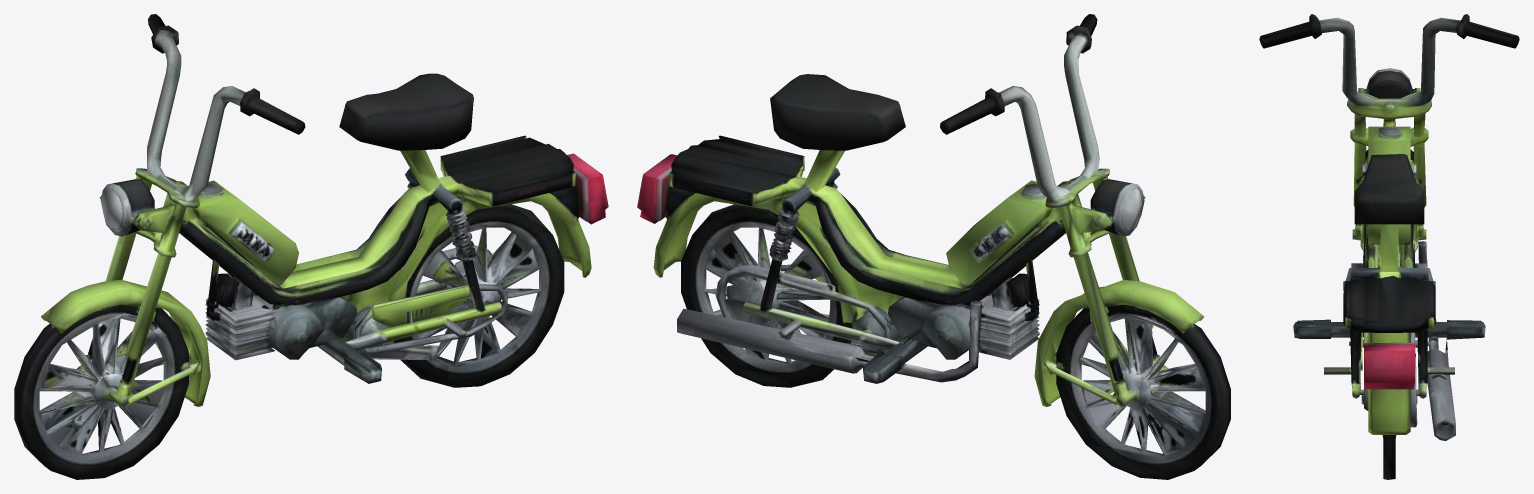
The model's file is moped.glb.
3 renders of one model, left to right at view 1: azimuth 30°, elevation 25°; view 2: azimuth 150°, elevation 25°; view 3: azimuth 270°, elevation 25°, orthographic. The views are drawn at different scales.
Visible parts, largest first — view 1: tripo_node_b1f79a2f-89d4-4f93-8c94-6657031f8534; view 2: tripo_node_b1f79a2f-89d4-4f93-8c94-6657031f8534; view 3: tripo_node_b1f79a2f-89d4-4f93-8c94-6657031f8534.
Part boxes in pixels (x1=…): tripo_node_b1f79a2f-89d4-4f93-8c94-6657031f8534: x1=14, y1=14, x2=608, y2=479; tripo_node_b1f79a2f-89d4-4f93-8c94-6657031f8534: x1=637, y1=14, x2=1230, y2=479; tripo_node_b1f79a2f-89d4-4f93-8c94-6657031f8534: x1=1259, y1=14, x2=1519, y2=479.
Size of the model in its own units: 1.8 by 1.17 by 0.8067.
1 material, 1 textured.
